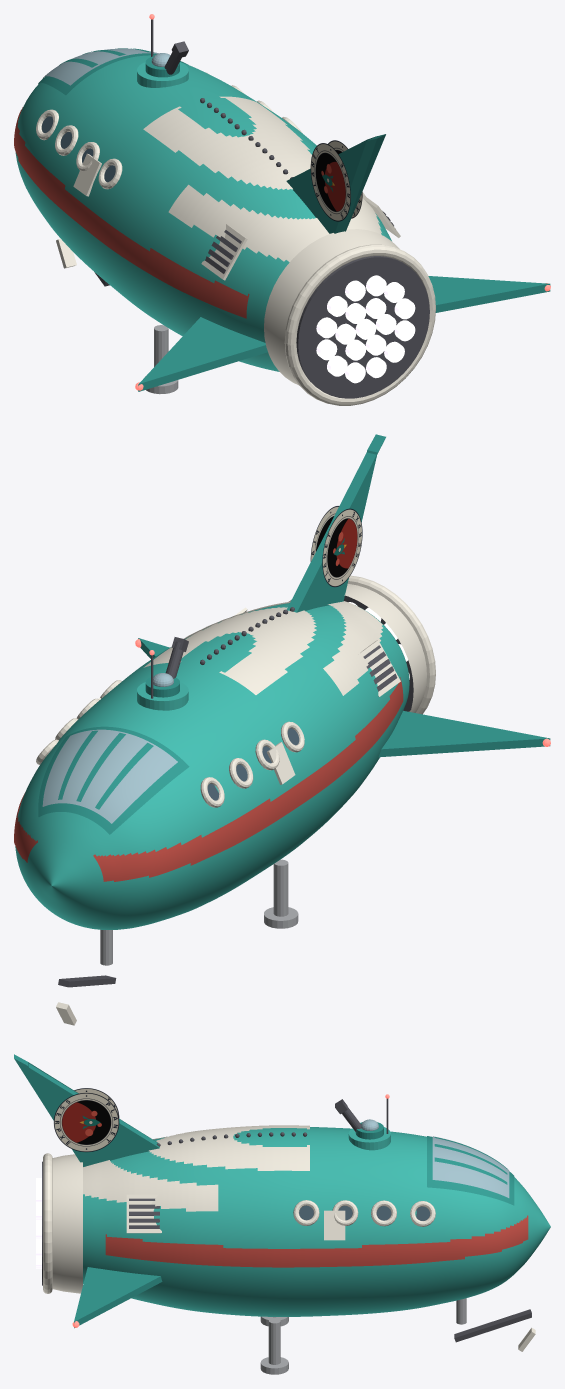
Rendered from planet-express-ship.glb.
3 renders of one model, top to bottom at view 1: azimuth 30°, elevation 25°; view 2: azimuth 150°, elevation 25°; view 3: azimuth 270°, elevation 25°, orthographic. The views are drawn at different scales.
Visible parts, largest first — view 1: Hull, EngineFace, SpineTrim, Stripe, TailBaseTrim, EnginePod, EngineRim, Strake_-1, TailFin, Strake_1, Logo_L, CockpitGlass (+5 smaller); view 2: Hull, Stripe, CockpitGlass, SpineTrim, Strake_-1, TailFin, TailBaseTrim, CockpitFrame, EnginePod, Logo_L, EngineRim, MainLeg_-1 (+1 smaller); view 3: Hull, Stripe, SpineTrim, EnginePod, TailBaseTrim, Logo_R, TailFin, Strake_1, CockpitGlass, EngineRim, CockpitFrame, VentPlate_1 (+6 smaller).
Boxes of the visible parts, x1=… form: Hull: x1=15, y1=55, x2=391, y2=371; EngineFace: x1=296, y1=256, x2=429, y2=398; SpineTrim: x1=143, y1=96, x2=311, y2=189; Stripe: x1=14, y1=107, x2=249, y2=318; TailBaseTrim: x1=168, y1=184, x2=381, y2=262; EnginePod: x1=264, y1=229, x2=399, y2=385; EngineRim: x1=284, y1=244, x2=435, y2=405; Strake_-1: x1=138, y1=317, x2=267, y2=391; TailFin: x1=286, y1=134, x2=385, y2=233; Strake_1: x1=428, y1=276, x2=550, y2=312; Logo_L: x1=310, y1=143, x2=350, y2=221; CockpitGlass: x1=43, y1=48, x2=158, y2=85; Hull: x1=15, y1=603, x2=409, y2=929; Stripe: x1=14, y1=677, x2=403, y2=881; CockpitGlass: x1=42, y1=729, x2=177, y2=823; SpineTrim: x1=143, y1=607, x2=316, y2=694; Strake_-1: x1=378, y1=710, x2=550, y2=757; TailFin: x1=286, y1=434, x2=385, y2=612; TailBaseTrim: x1=184, y1=601, x2=382, y2=695; CockpitFrame: x1=38, y1=726, x2=189, y2=834; EnginePod: x1=288, y1=584, x2=426, y2=712; Logo_L: x1=322, y1=508, x2=362, y2=587; EngineRim: x1=347, y1=575, x2=435, y2=714; MainLeg_-1: x1=273, y1=859, x2=288, y2=916; Hull: x1=83, y1=1127, x2=550, y2=1316; Stripe: x1=105, y1=1215, x2=528, y2=1267; SpineTrim: x1=149, y1=1125, x2=309, y2=1170; EnginePod: x1=52, y1=1154, x2=82, y2=1293; TailBaseTrim: x1=83, y1=1136, x2=218, y2=1211; Logo_R: x1=54, y1=1093, x2=119, y2=1152; TailFin: x1=14, y1=1054, x2=159, y2=1166; Strake_1: x1=74, y1=1267, x2=162, y2=1328; CockpitGlass: x1=432, y1=1136, x2=509, y2=1197; EngineRim: x1=43, y1=1153, x2=52, y2=1293; CockpitFrame: x1=427, y1=1136, x2=514, y2=1205; VentPlate_1: x1=126, y1=1194, x2=161, y2=1233.
Bounding box in the file's own units: 5.54 × 4.6 × 7.62.
Materials: 11 (1 with a texture image).
